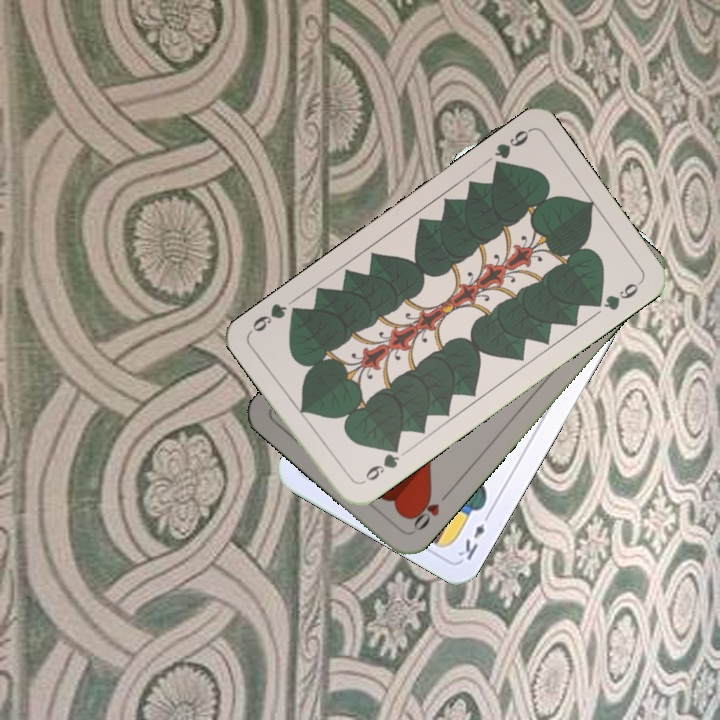EK: (454, 507, 494, 563)
G9: (356, 441, 403, 487), (489, 125, 533, 174)
HO: (405, 487, 453, 535)
